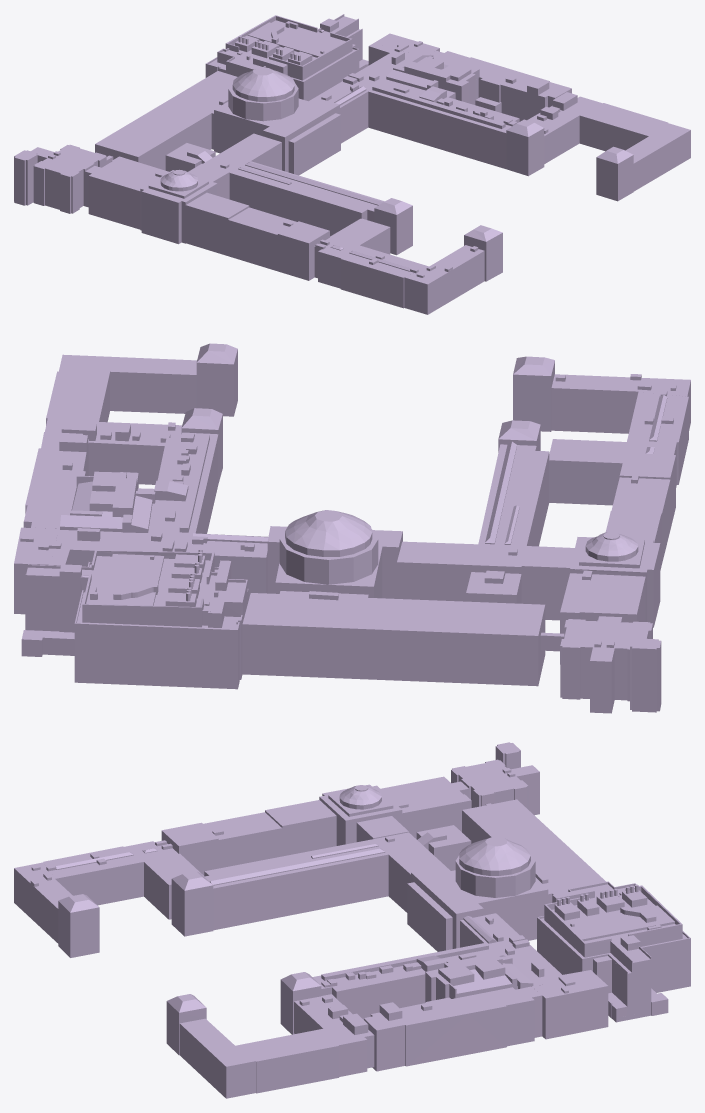
The model's file is building_1.gltf.
The picture shows the model from 3 angles, top to bottom: view 1: azimuth 30°, elevation 25°; view 2: azimuth 150°, elevation 25°; view 3: azimuth 270°, elevation 25°; orthographic projection. The views are drawn at different scales.
Parts seen in each view (by area): view 1: Camb3D_Bldg_Active_MP; view 2: Camb3D_Bldg_Active_MP; view 3: Camb3D_Bldg_Active_MP.
Boxes of the visible parts, box(x1,y1,x2,y2) form: Camb3D_Bldg_Active_MP: box(14, 14, 690, 314); Camb3D_Bldg_Active_MP: box(14, 343, 690, 713); Camb3D_Bldg_Active_MP: box(14, 742, 690, 1098).
Size of the model in its own units: 1123 by 156 by 1049.
